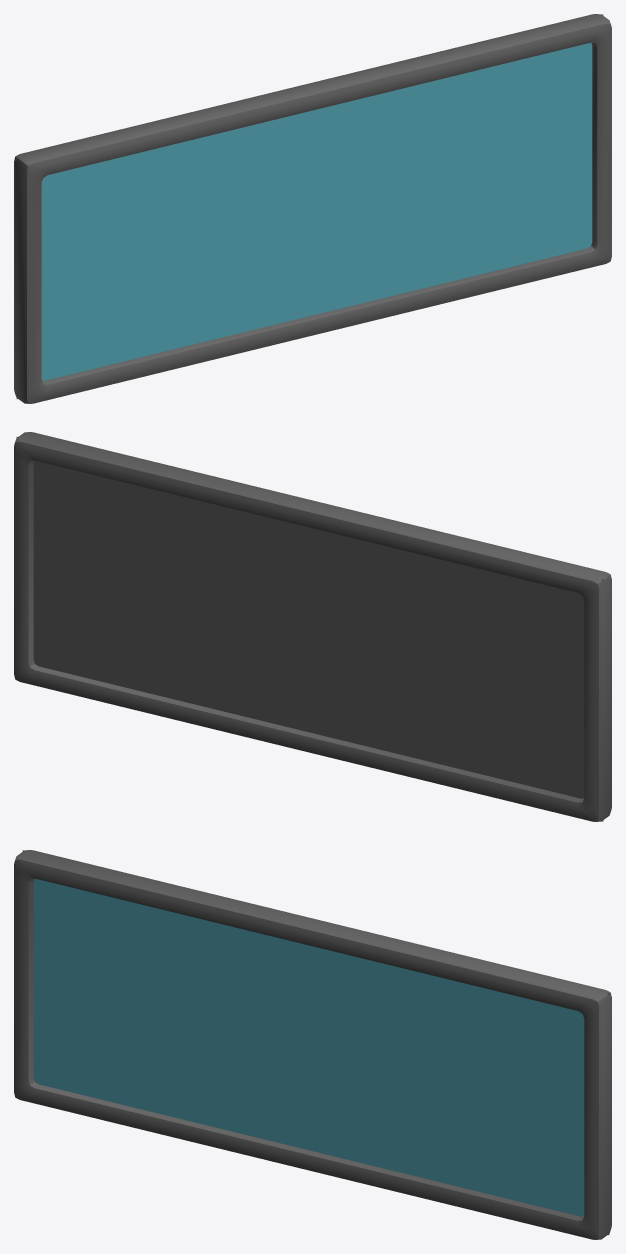
The model's file is SM_mirror_bathroom.fbx.
3 renders of one model, top to bottom at view 1: azimuth 30°, elevation 25°; view 2: azimuth 150°, elevation 25°; view 3: azimuth 330°, elevation 25°, orthographic.
Visible parts, largest first — view 1: Object031; view 2: Object031; view 3: Object031.
Boxes of the visible parts, x1,y1,x2,y2 form: Object031: (14, 14, 611, 403); Object031: (14, 432, 611, 821); Object031: (14, 850, 611, 1239).
Size of the model in its own units: 83.4 by 32.98 by 3.55.
